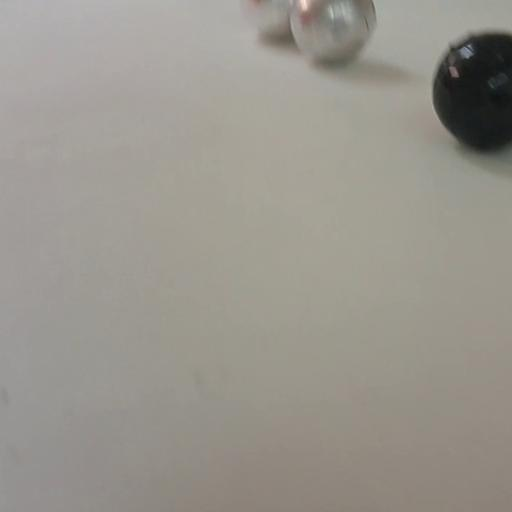alive: (287, 0, 377, 67), (241, 0, 296, 38)
dead: (426, 28, 512, 156)
